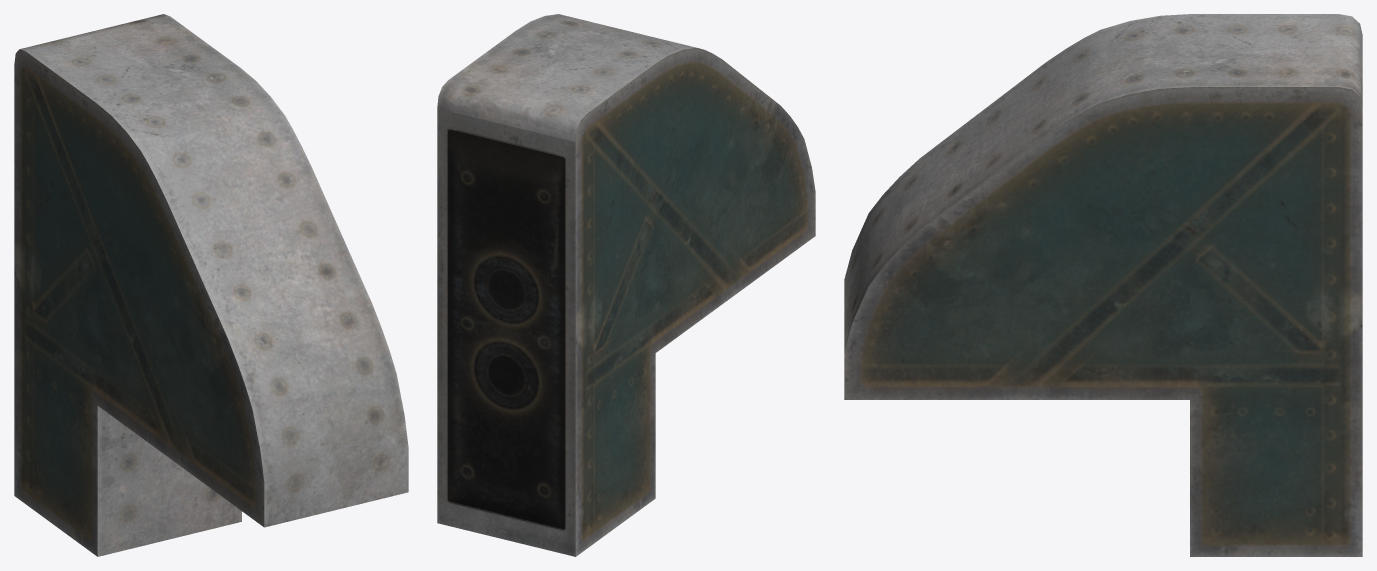
The model's file is SM_RailBlock.FBX.
3 renders of one model, left to right at view 1: azimuth 30°, elevation 25°; view 2: azimuth 150°, elevation 25°; view 3: azimuth 270°, elevation 25°, orthographic. The views are drawn at different scales.
Visible parts, largest first — view 1: SM_RailBlock; view 2: SM_RailBlock; view 3: SM_RailBlock.
Part boxes in pixels (x1,y1,x2,y2): SM_RailBlock: (14,14,408,556); SM_RailBlock: (437,14,815,556); SM_RailBlock: (844,14,1362,556).
Bounding box in the file's own units: 100 × 300 × 300.
